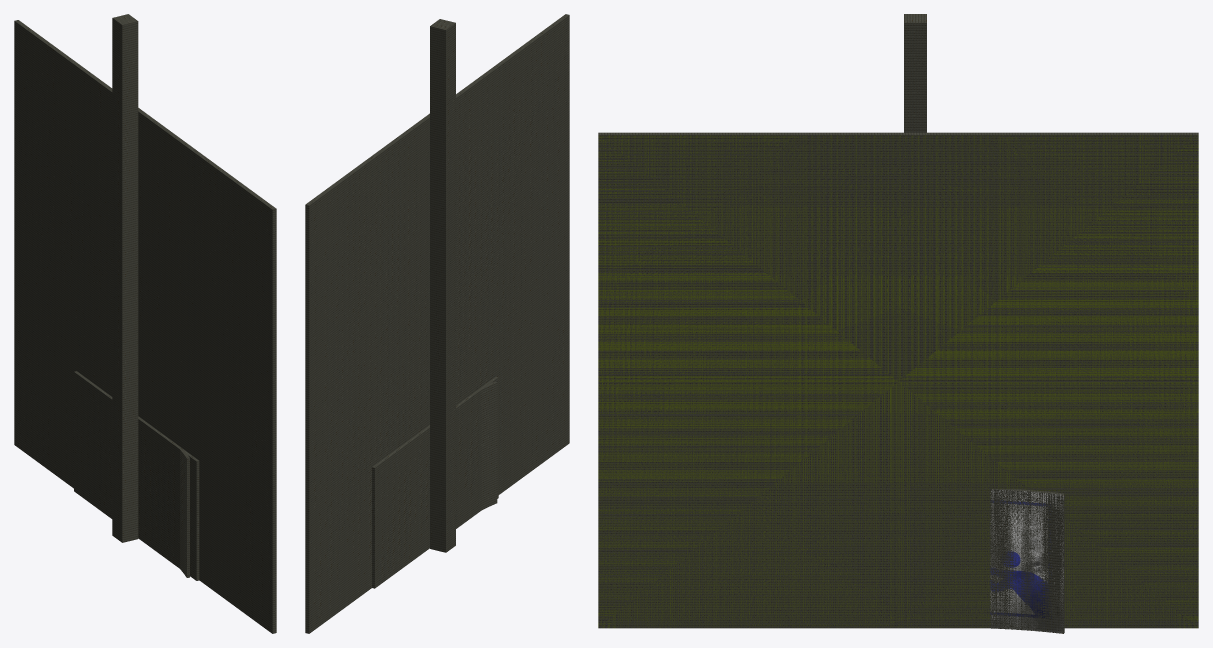
The model's file is Signs.fbx.
3 renders of one model, left to right at view 1: azimuth 30°, elevation 25°; view 2: azimuth 150°, elevation 25°; view 3: azimuth 270°, elevation 25°, orthographic. The views are drawn at different scales.
Parts seen in each view (by area): view 1: Group1, Group4, Group2, Group3; view 2: Group1, Group4, Group2, Group3; view 3: Group1, Group3, Group4.
Boxes of the visible parts, bbox=[...] form: Group1: bbox=[14, 20, 276, 633]; Group4: bbox=[112, 14, 138, 542]; Group2: bbox=[74, 371, 199, 580]; Group3: bbox=[171, 440, 189, 577]; Group1: bbox=[305, 14, 569, 633]; Group4: bbox=[430, 19, 455, 552]; Group2: bbox=[372, 376, 498, 588]; Group3: bbox=[470, 381, 497, 509]; Group1: bbox=[598, 132, 1198, 628]; Group3: bbox=[990, 489, 1064, 633]; Group4: bbox=[904, 14, 926, 132].
Size of the model in its own units: 31.02 by 473 by 427.
